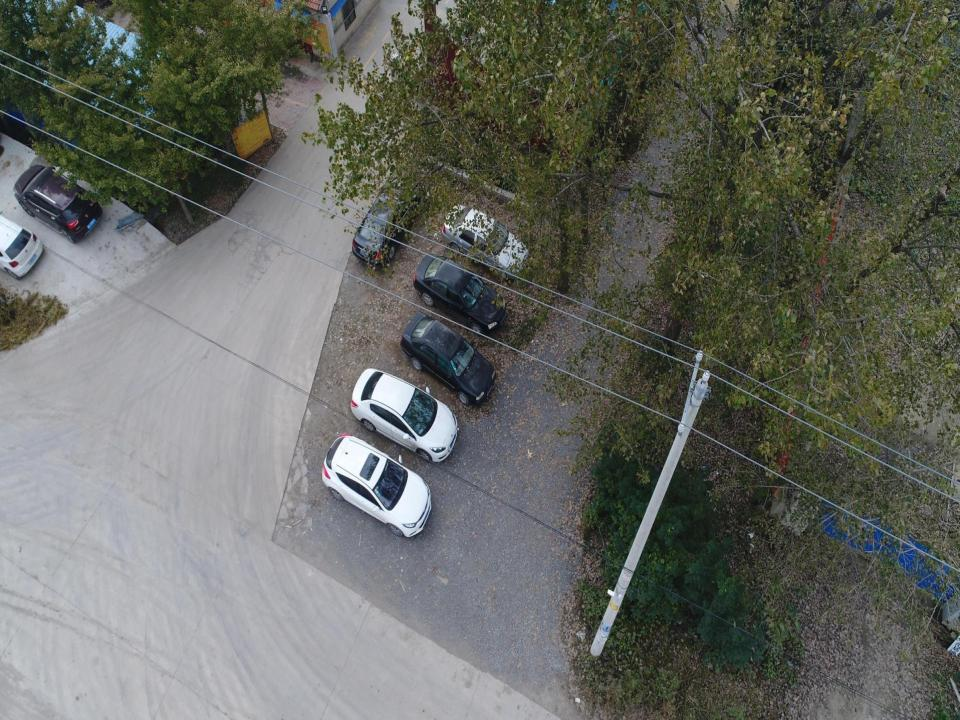car: (321, 435, 430, 538), (350, 368, 458, 462), (399, 310, 496, 405), (414, 253, 505, 334), (14, 164, 102, 243), (442, 204, 528, 284), (352, 174, 420, 267), (0, 208, 43, 280)
